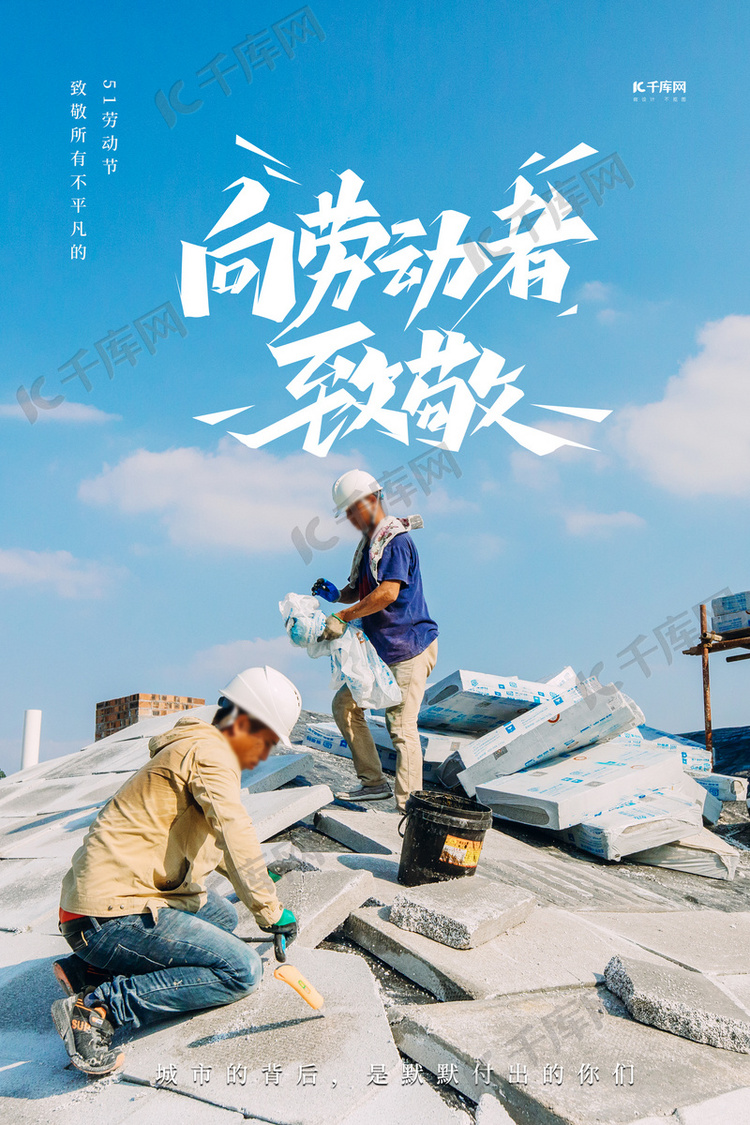safetyhat: (40, 641, 303, 1104), (320, 455, 450, 800)
